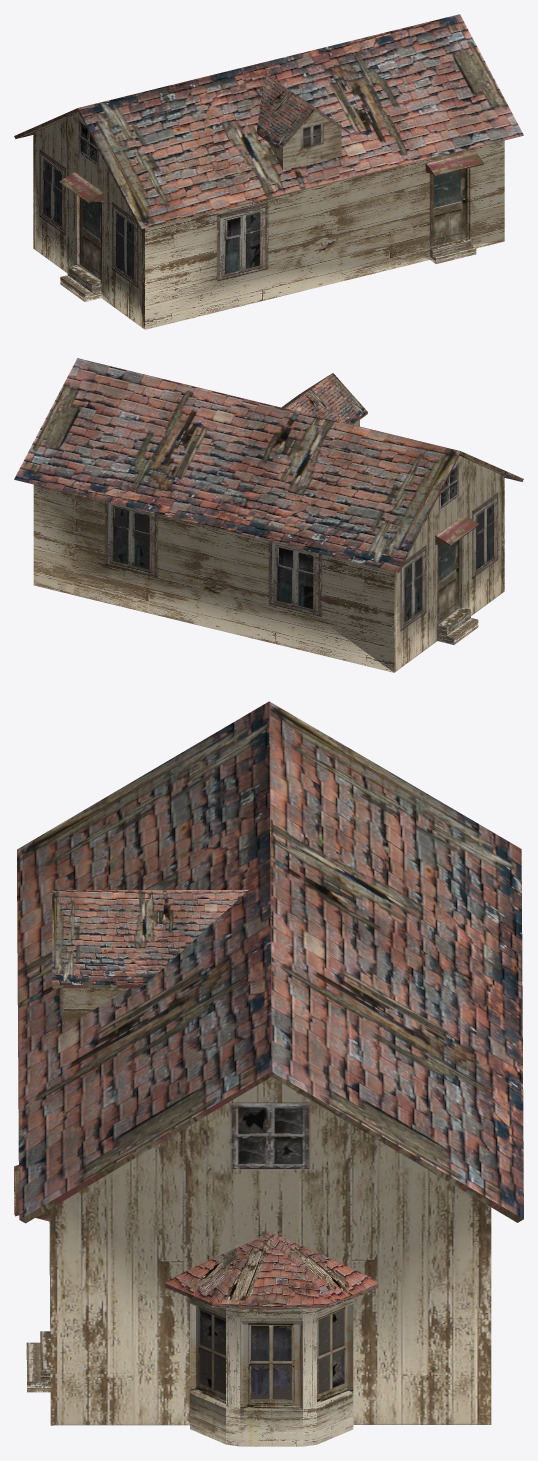
File: House_01.fbx
3 renders of one model, top to bottom at view 1: azimuth 30°, elevation 25°; view 2: azimuth 150°, elevation 25°; view 3: azimuth 270°, elevation 25°, orthographic. The views are drawn at different scales.
Visible parts, largest first — view 1: Cube.001; view 2: Cube.001; view 3: Cube.001.
Boxes of the visible parts, left/top/right/bottom form: Cube.001: left=14, top=14, right=523, bottom=329; Cube.001: left=14, top=358, right=523, bottom=672; Cube.001: left=14, top=701, right=523, bottom=1446.
Size of the model in its own units: 31.77 by 13.89 by 17.6.
